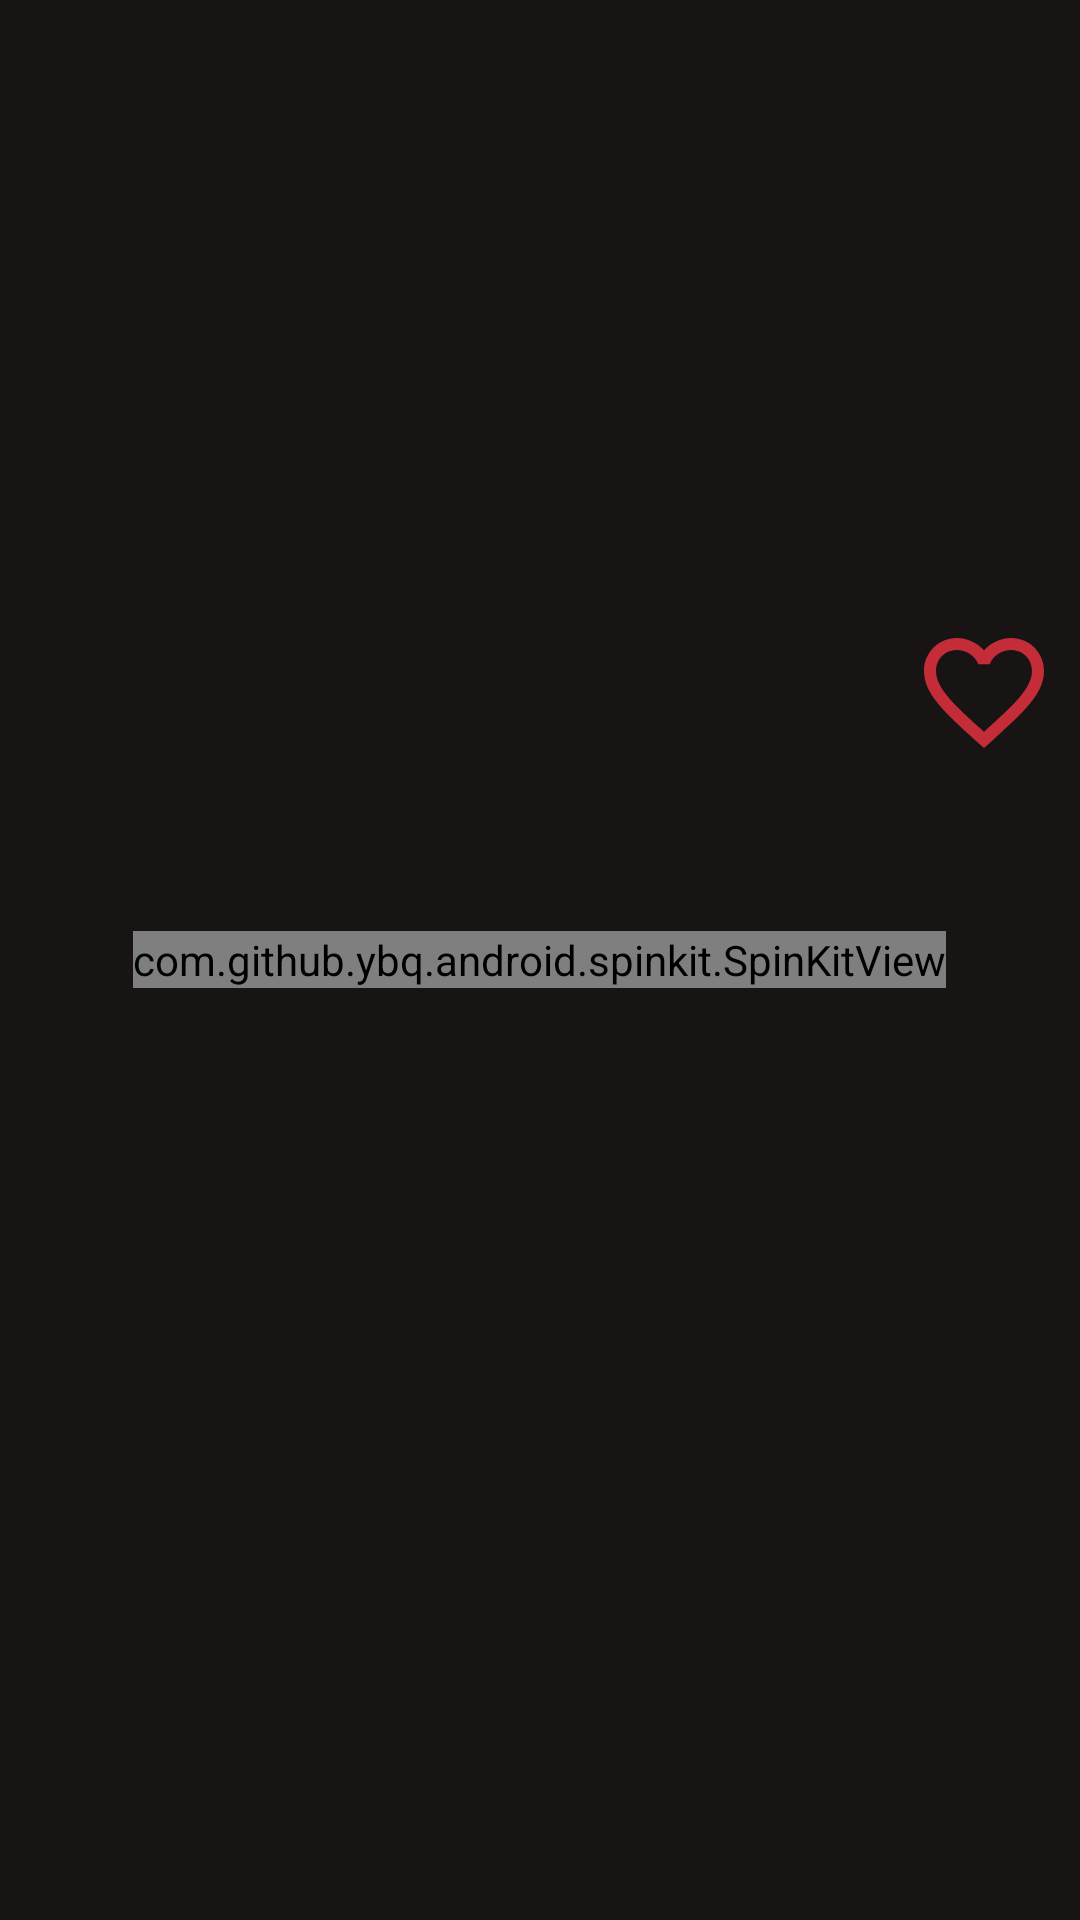

Where icons sit on this 1080 × 1920 app screen, as (x1, y1, x2, y2):
favorite: (924, 638, 1044, 748)
